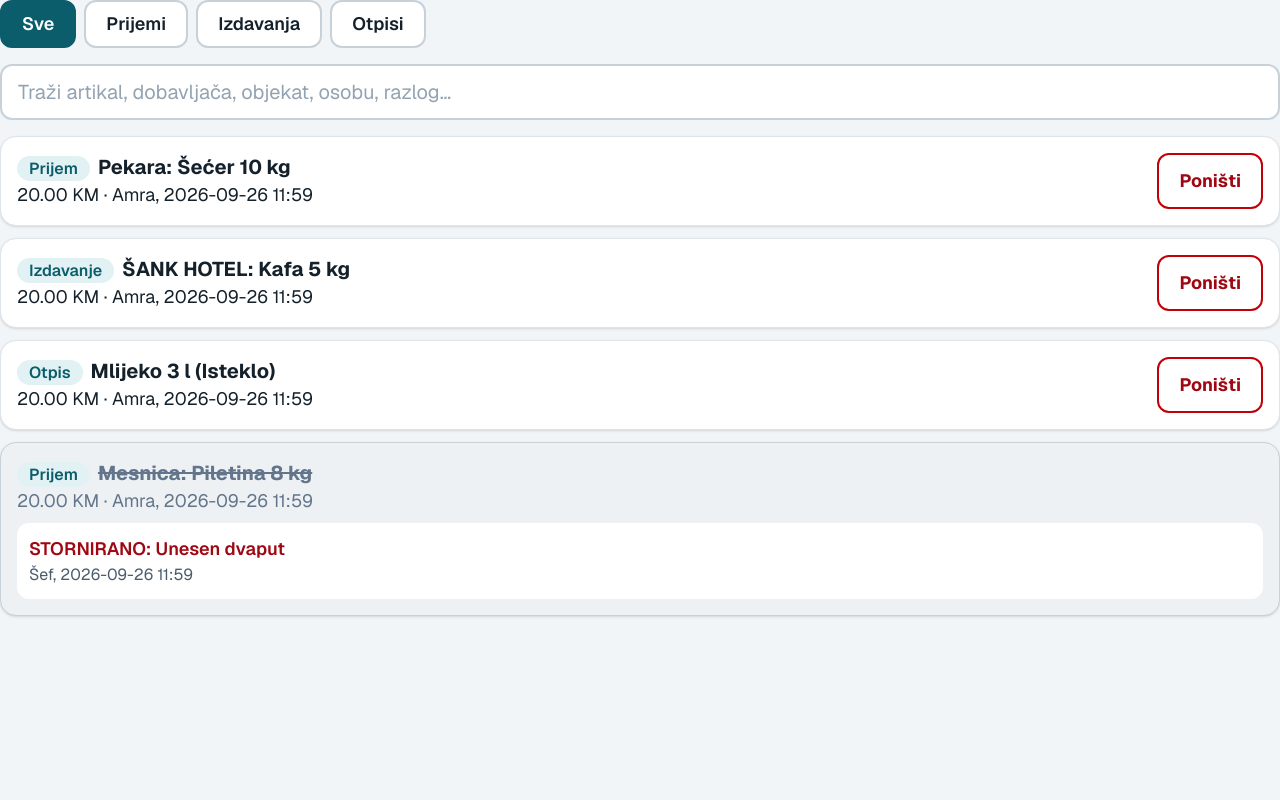
Test: storno: poništavanje › odustajanje zatvara polje za razlog i ništa ne šalje
Click the button "Poništi" in the row of "Pekara: Šećer 10 kg" at (1210, 181), box [1157,153,1263,209]
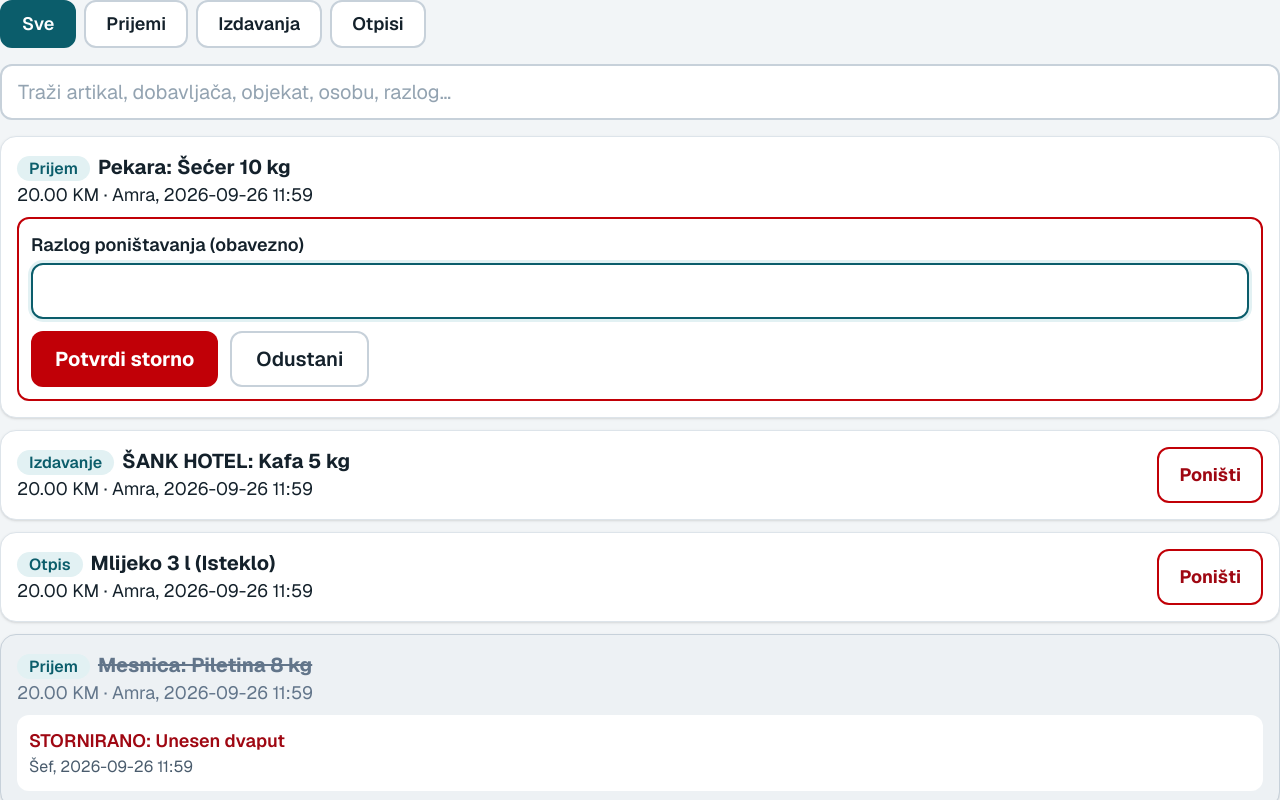
Click the button "Odustani" at (300, 359), box [230,331,369,387]
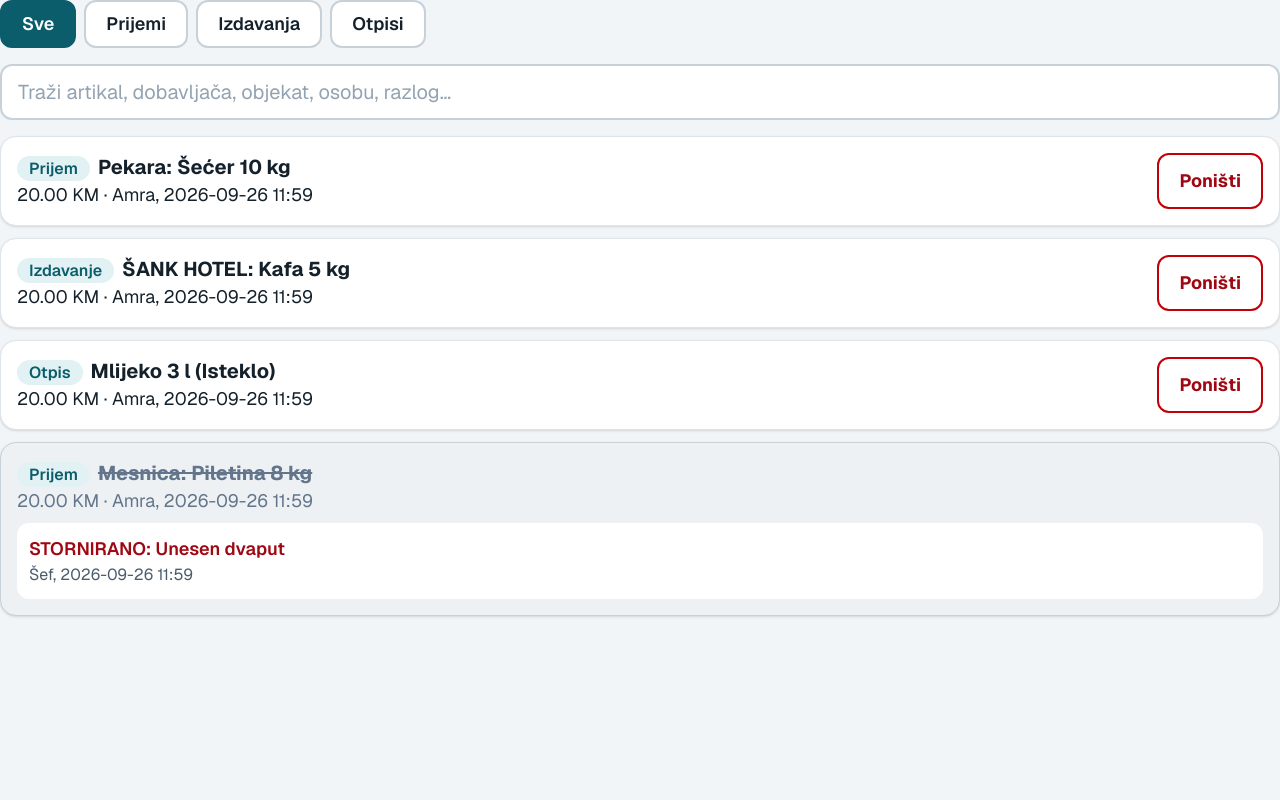
Expected: the label labelled "Razlog poništavanja" is gone
